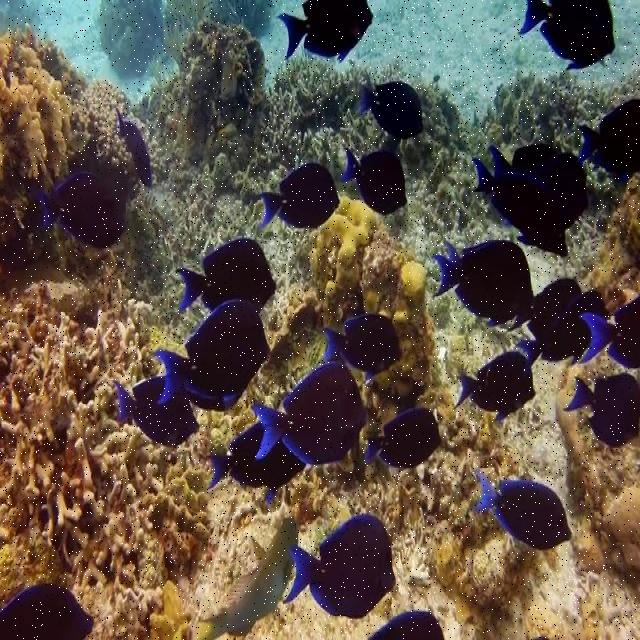fish: (155, 303, 271, 411), (197, 516, 299, 637), (282, 513, 398, 619), (252, 362, 369, 463), (471, 157, 569, 258), (433, 239, 534, 327), (507, 281, 611, 364), (488, 144, 587, 231), (208, 422, 311, 501), (474, 472, 573, 550), (176, 240, 277, 316), (519, 0, 616, 72), (40, 175, 129, 248), (114, 376, 201, 446), (276, 2, 372, 65), (563, 373, 639, 449), (453, 352, 537, 419), (260, 162, 339, 231), (323, 316, 403, 379), (579, 98, 638, 183), (1, 585, 93, 637), (365, 411, 443, 467), (342, 149, 407, 216), (580, 297, 639, 370), (357, 81, 423, 138), (115, 110, 153, 190), (368, 612, 444, 639)
